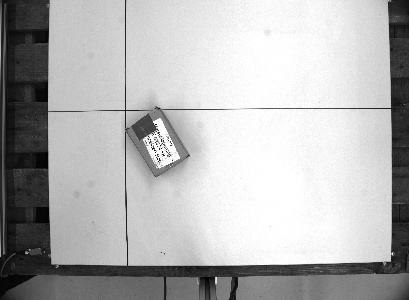b6: (122, 104, 191, 179)
